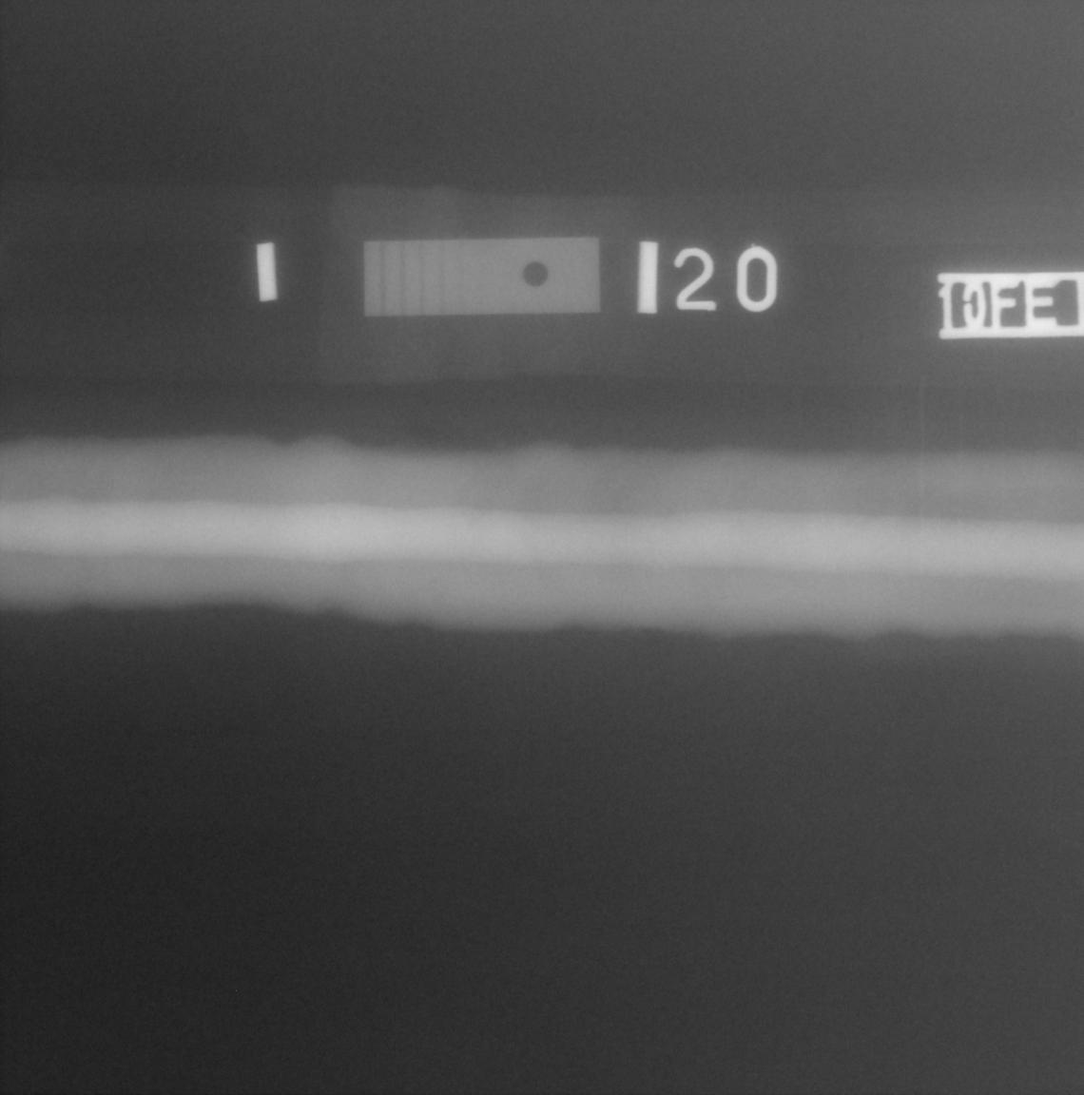Reference Standard 1: (363, 236, 601, 317)
